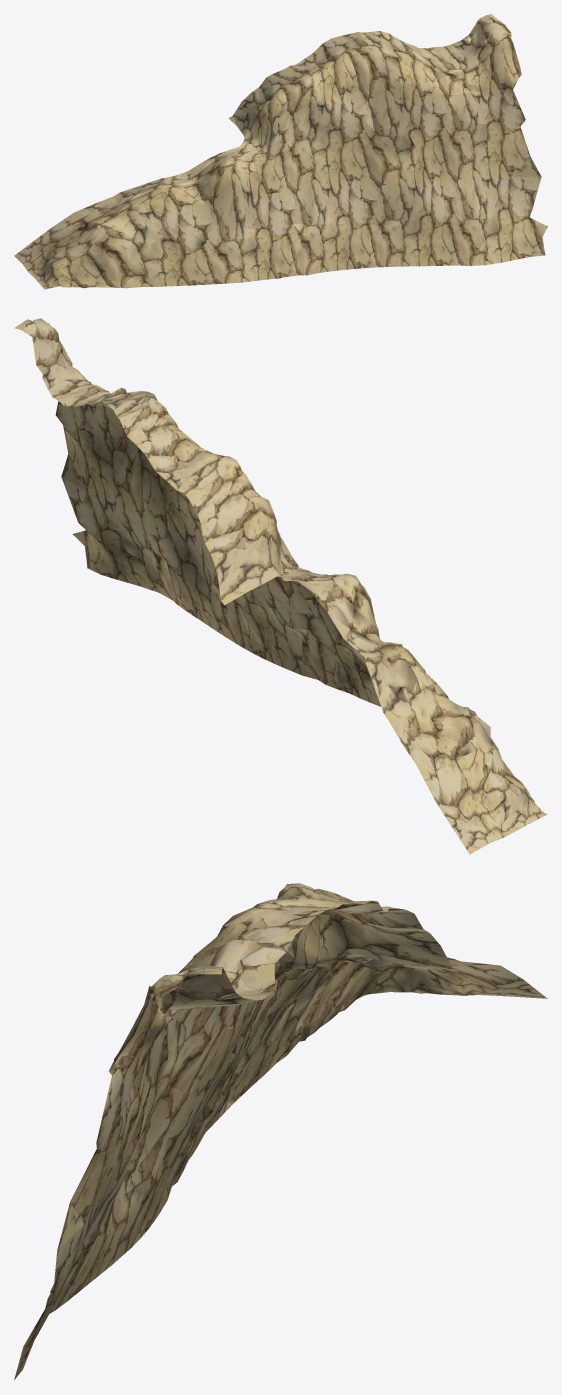
The picture shows the model from 3 angles, top to bottom: view 1: azimuth 30°, elevation 25°; view 2: azimuth 150°, elevation 25°; view 3: azimuth 270°, elevation 25°; orthographic projection. The views are drawn at different scales.
Visible parts, largest first — view 1: sa00zrock00_001; view 2: sa00zrock00_001; view 3: sa00zrock00_001.
Boxes of the visible parts, left/top/right/bottom form: sa00zrock00_001: left=14, top=14, right=547, bottom=289; sa00zrock00_001: left=14, top=318, right=547, bottom=854; sa00zrock00_001: left=14, top=883, right=547, bottom=1380.
Size of the model in its own units: 334 by 159 by 187.
1 material, 1 textured.
